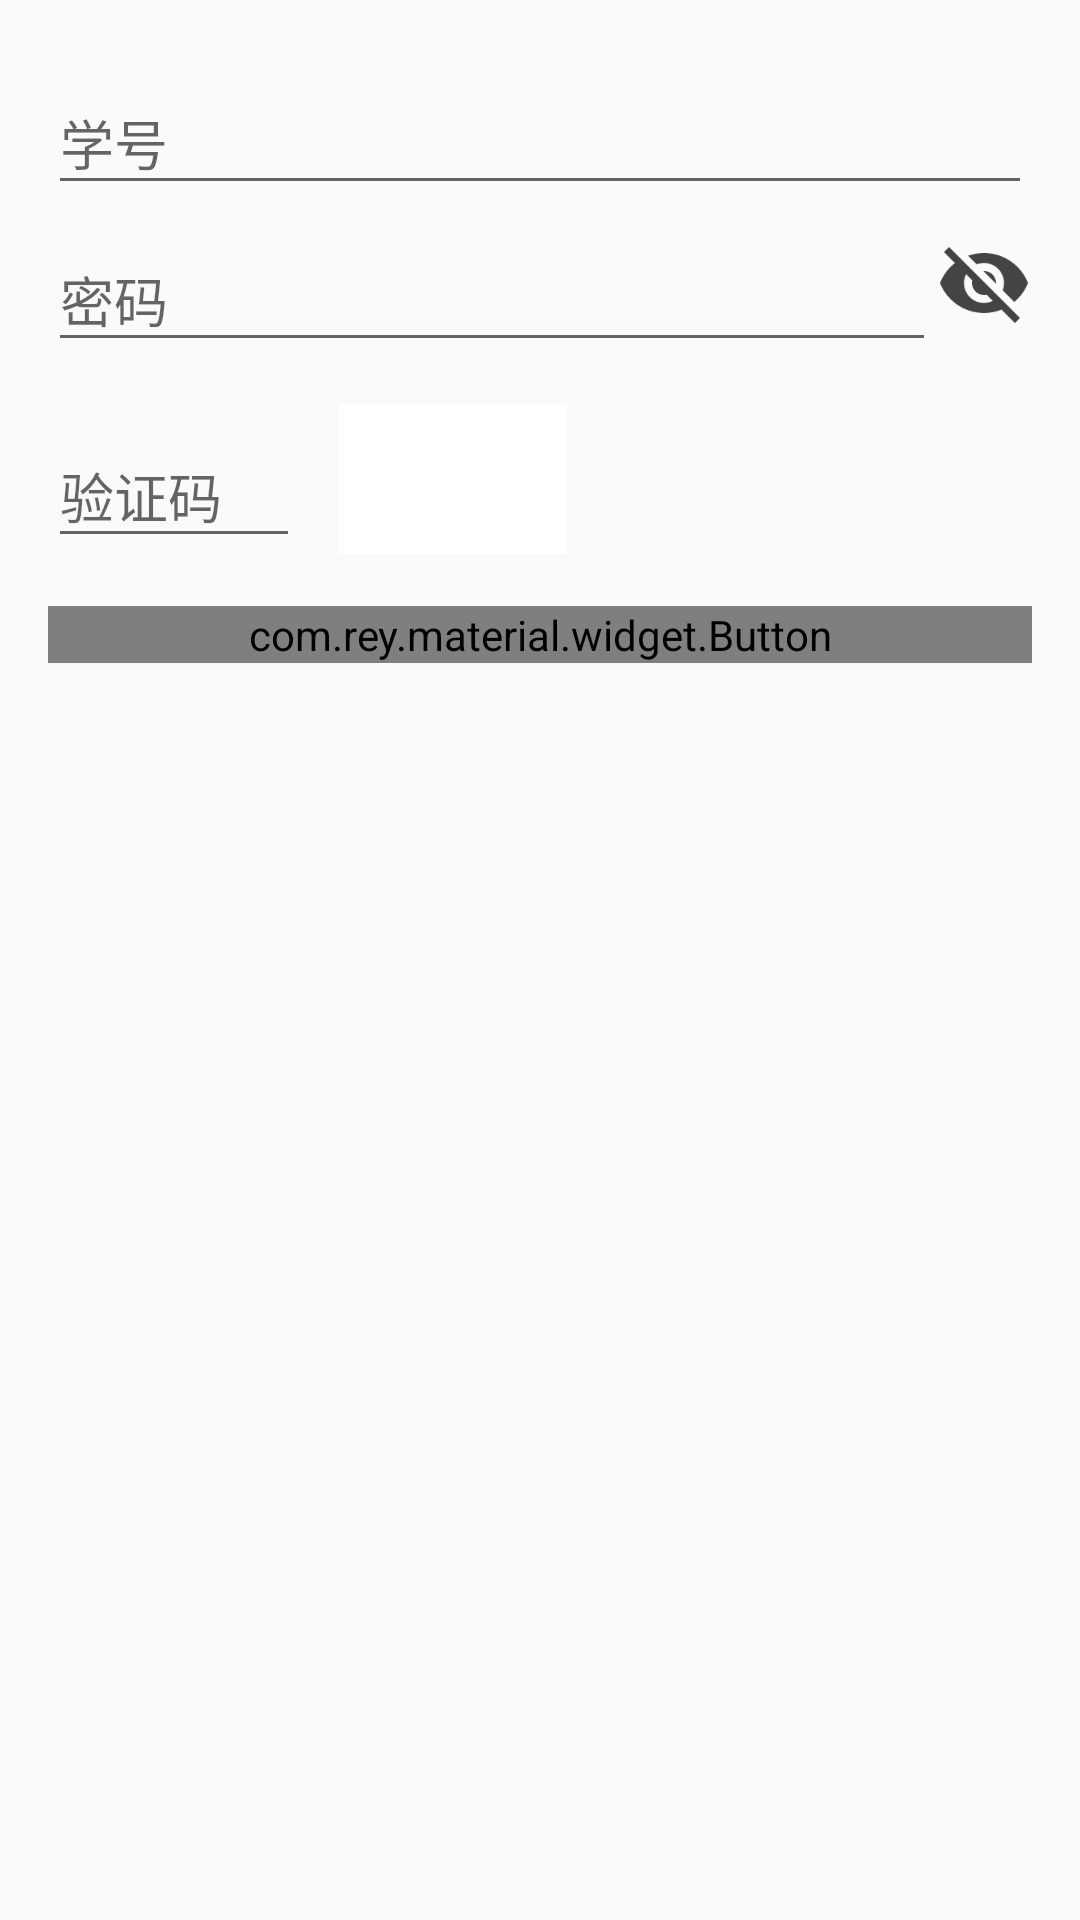

Icon click points for this 1080*1920 phone screenshot, format point (x, y):
eye off: point (984, 285)
